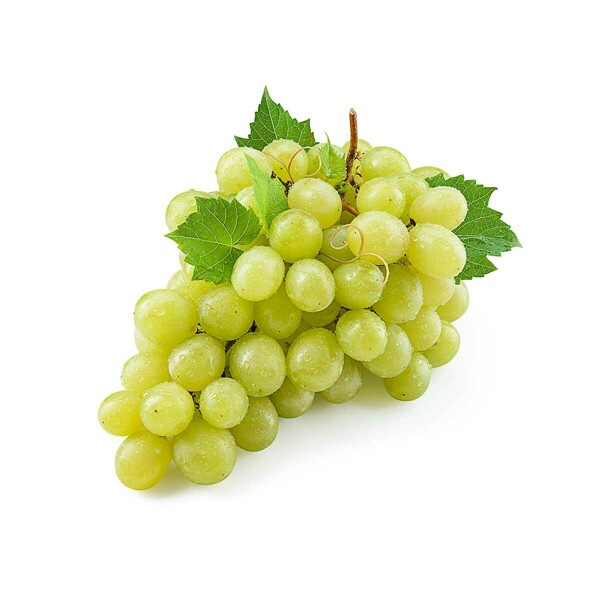Grape: (105, 115, 493, 507)
